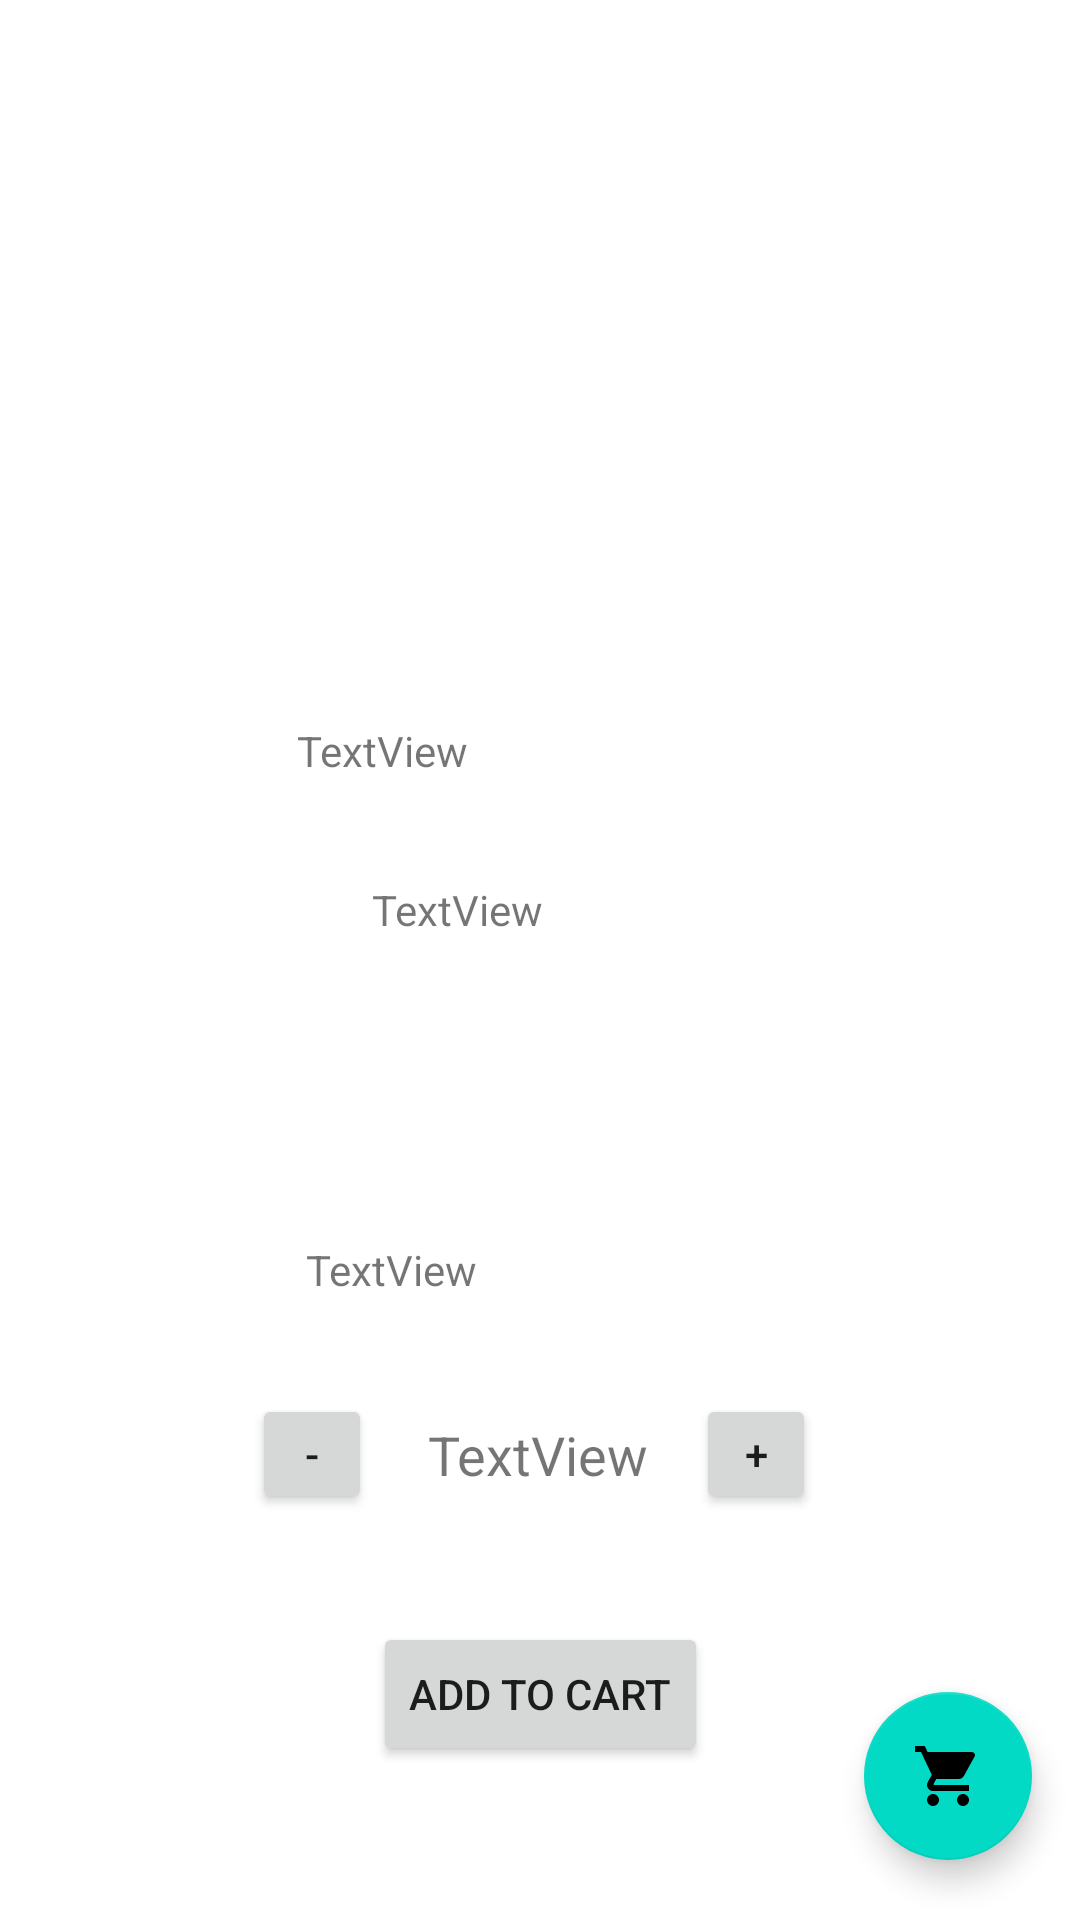

Icon bounding boxes for this 1080px x 1920px phone screenshot, format (x1, y1, x2, y2):
shopping cart: (864, 1692, 1032, 1860)
